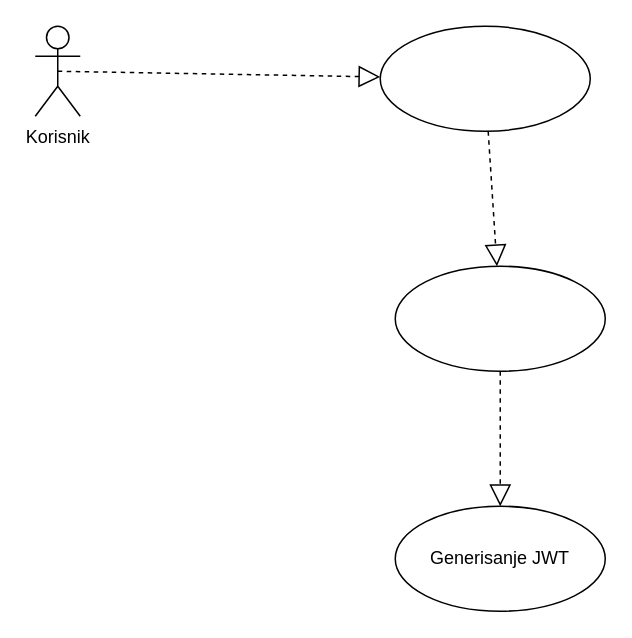
Image size: 632x638. Some labels were removed from this diagram. The box of each missing label's shape, as (x1, y1, x2, y2) in pixels:
Prijava: (379, 25, 590, 131)
Provera kredencijala: (394, 265, 605, 371)
